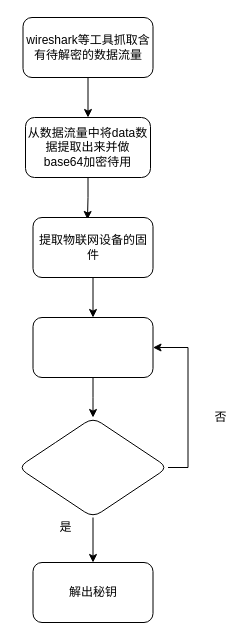
The diagram is 252 pixels wide and 640 high, and some of its shapes have lost their labels. Here are the shapes that lost their labels. From the top down, the centre of each, then its label:
At [92,347]: "以16个字节循环遍历固件，并转成字符串".
At [92,467]: "通过 crypto 模块 对数据进行解密".
